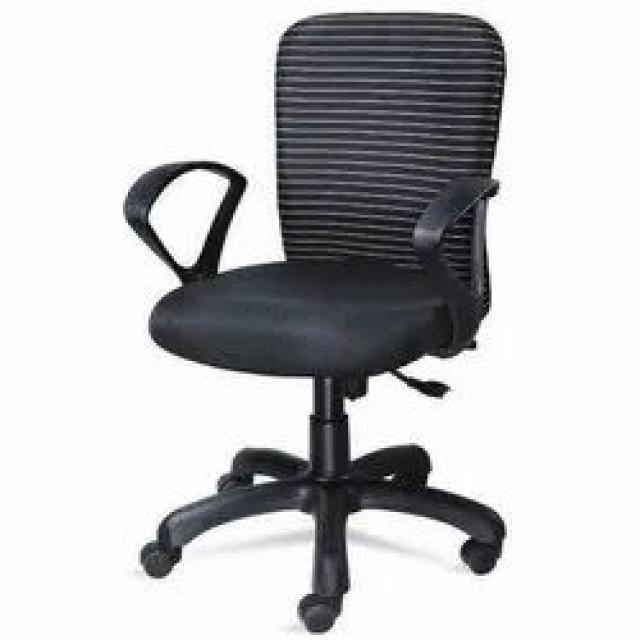chair: (92, 4, 530, 640)
